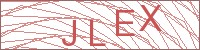E: (114, 9, 137, 37)
J: (61, 19, 77, 47)
L: (88, 19, 107, 47)
X: (138, 4, 164, 32)
